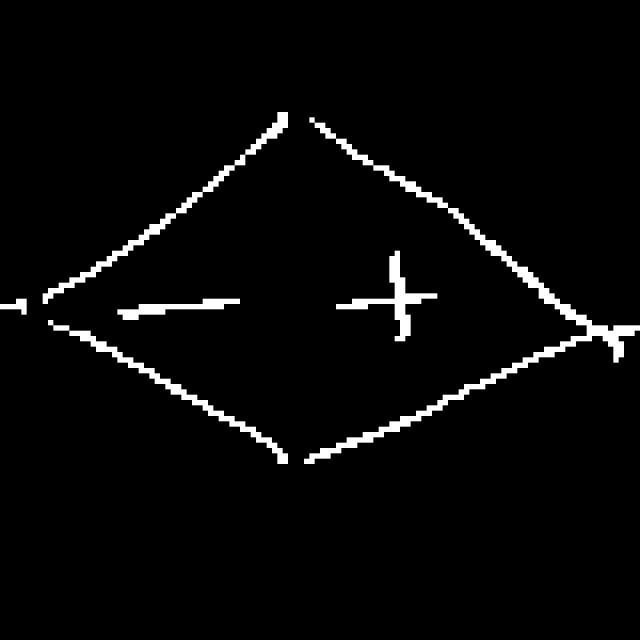dependant_voltage: (28, 105, 600, 472)
